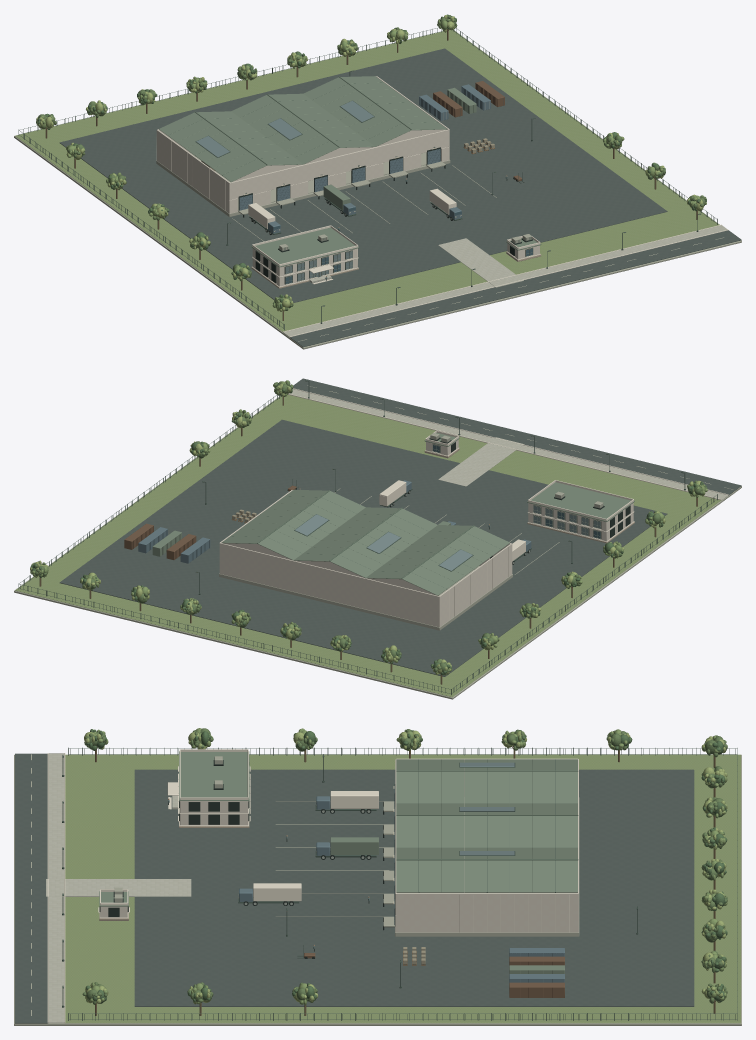
File: logistics-connected.glb
3 renders of one model, top to bottom at view 1: azimuth 30°, elevation 25°; view 2: azimuth 150°, elevation 25°; view 3: azimuth 270°, elevation 25°, orthographic. The views are drawn at different scales.
Visible parts, largest first — view 1: 材质批次_asphalt, 材质批次_grass, 材质批次_sage_metal_roof, 材质批次_limestone, 材质批次_plaza_paving, 材质批次_poi_service_concrete, 材质批次_warm_cream_trim, 材质批次_street_metal, 材质批次_poi_desaturated_blue, 材质批次_leaf_2, 材质批次_leaf_0, 材质批次_leaf_1 (+4 smaller); view 2: 材质批次_asphalt, 材质批次_grass, 材质批次_sage_metal_roof, 材质批次_limestone, 材质批次_plaza_paving, 材质批次_poi_service_concrete, 材质批次_street_metal, 材质批次_warm_cream_trim, 材质批次_leaf_1, 材质批次_leaf_2, 材质批次_poi_window_lit, 材质批次_leaf_0 (+5 smaller); view 3: 材质批次_asphalt, 材质批次_grass, 材质批次_sage_metal_roof, 材质批次_limestone, 材质批次_plaza_paving, 材质批次_street_metal, 材质批次_poi_service_concrete, 材质批次_warm_cream_trim, 材质批次_leaf_1, 材质批次_leaf_3, 材质批次_leaf_2, 材质批次_leaf_0 (+7 smaller).
Part boxes in pixels (x1,y1,x2,y2): 材质批次_asphalt: [59, 48, 741, 347]; 材质批次_grass: [15, 30, 719, 331]; 材质批次_sage_metal_roof: [159, 76, 541, 267]; 材质批次_limestone: [156, 76, 539, 286]; 材质批次_plaza_paving: [283, 225, 727, 337]; 材质批次_poi_service_concrete: [14, 30, 741, 349]; 材质批次_warm_cream_trim: [171, 141, 728, 337]; 材质批次_street_metal: [18, 27, 717, 330]; 材质批次_poi_desaturated_blue: [239, 84, 490, 233]; 材质批次_leaf_2: [36, 15, 703, 311]; 材质批次_leaf_0: [36, 18, 706, 309]; 材质批次_leaf_1: [36, 15, 706, 310]; 材质批次_asphalt: [59, 378, 741, 676]; 材质批次_grass: [15, 394, 720, 697]; 材质批次_sage_metal_roof: [152, 433, 634, 595]; 材质批次_limestone: [219, 439, 633, 627]; 材质批次_plaza_paving: [289, 389, 728, 499]; 材质批次_poi_service_concrete: [14, 397, 741, 699]; 材质批次_street_metal: [18, 380, 717, 694]; 材质批次_warm_cream_trim: [288, 388, 728, 620]; 材质批次_leaf_1: [34, 381, 707, 674]; 材质批次_leaf_2: [30, 382, 703, 674]; 材质批次_poi_window_lit: [295, 506, 600, 570]; 材质批次_leaf_0: [30, 380, 707, 675]; 材质批次_asphalt: [15, 753, 694, 1023]; 材质批次_grass: [65, 754, 740, 1023]; 材质批次_sage_metal_roof: [99, 751, 577, 973]; 材质批次_limestone: [100, 758, 578, 932]; 材质批次_plaza_paving: [46, 753, 191, 1023]; 材质批次_street_metal: [62, 747, 737, 1020]; 材质批次_poi_service_concrete: [14, 754, 741, 1025]; 材质批次_warm_cream_trim: [47, 749, 569, 1023]; 材质批次_leaf_1: [82, 728, 727, 1004]; 材质批次_leaf_3: [85, 729, 727, 1003]; 材质批次_leaf_2: [84, 728, 727, 1004]; 材质批次_leaf_0: [86, 728, 727, 1005].
Bounding box in the file's own units: 140 × 13.93 × 160.
Materials: 29 (5 with a texture image).
